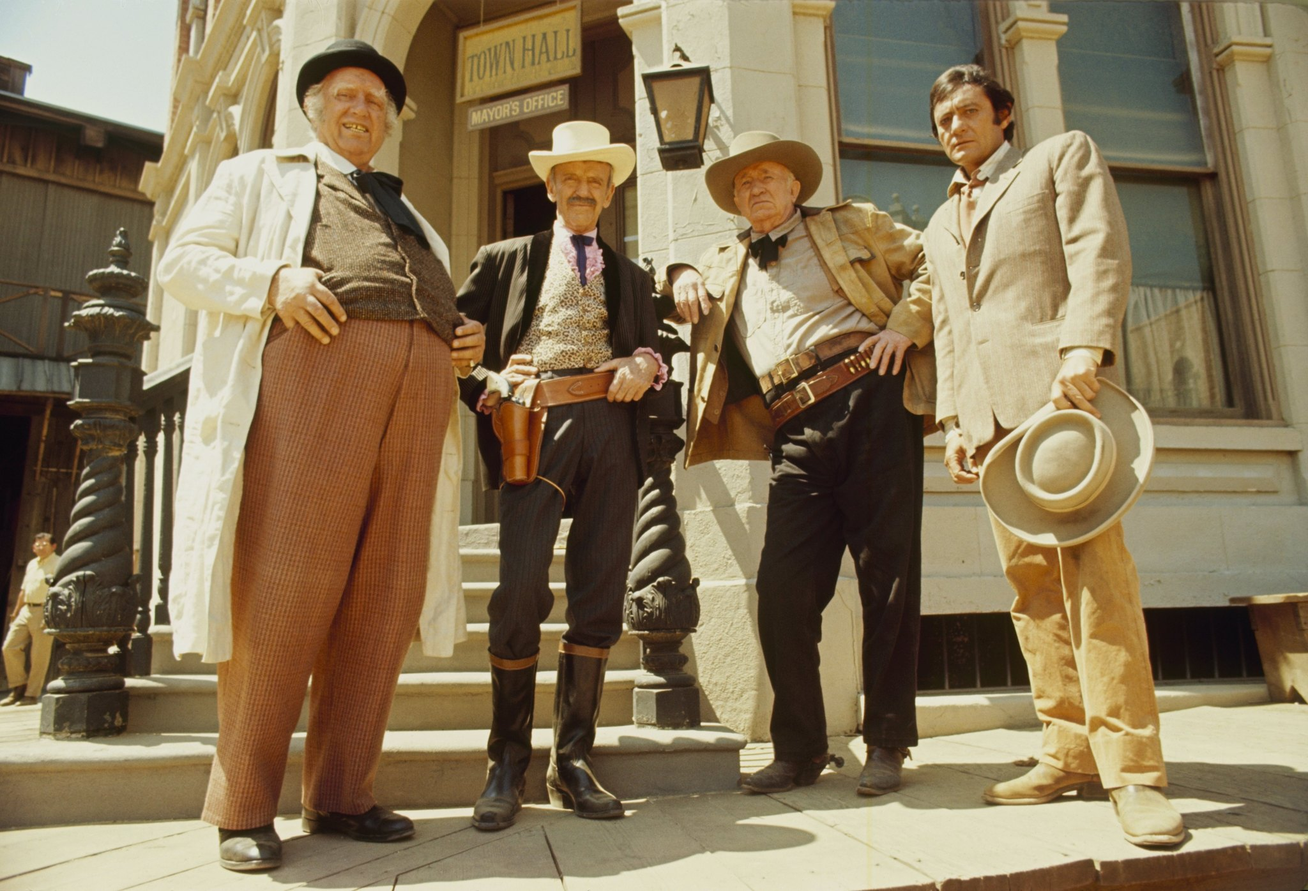42: (923, 70, 1005, 174)
52: (31, 536, 50, 559)
57: (310, 57, 397, 166)
63: (545, 143, 616, 237), (727, 148, 796, 230)
Belt: (740, 326, 912, 428), (480, 364, 657, 420), (13, 597, 63, 617)
Boots: (474, 638, 635, 834)
Coat: (137, 137, 472, 673), (888, 128, 1139, 460)
Gun: (467, 388, 557, 500)
Hat: (978, 377, 1167, 554), (693, 125, 839, 222), (283, 32, 422, 124), (510, 111, 651, 193)
Jacket: (644, 205, 937, 474), (441, 210, 668, 508)
Male: (310, 57, 397, 166), (923, 70, 1005, 174), (545, 143, 616, 237), (727, 148, 796, 230), (31, 536, 50, 559)
Pants: (206, 325, 466, 825), (964, 438, 1179, 798), (756, 348, 931, 759), (480, 356, 651, 688), (1, 604, 59, 727)
Shirt: (696, 224, 920, 382), (4, 549, 78, 612)
Shoes: (971, 759, 1208, 869), (183, 814, 430, 874), (728, 740, 933, 806)
Tie: (344, 153, 437, 260), (940, 163, 994, 265), (561, 231, 606, 304), (741, 231, 799, 284)
Woolen Sweater: (259, 146, 473, 366)
